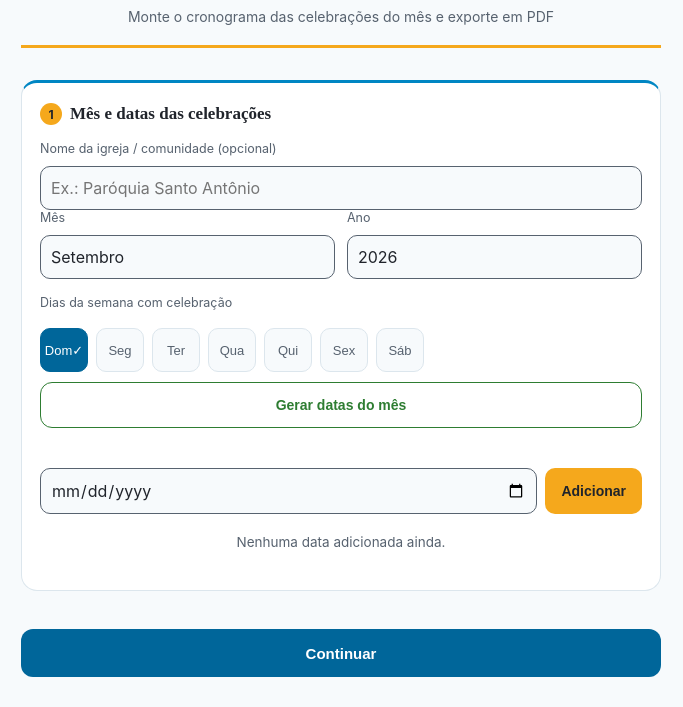
Test: App — step-by-step wizard › advances one step per Continuar click, hiding the previous step
(page scrolled)
Click the button "Continuar": [341, 653] box [21,629,661,677]
(page scrolled)
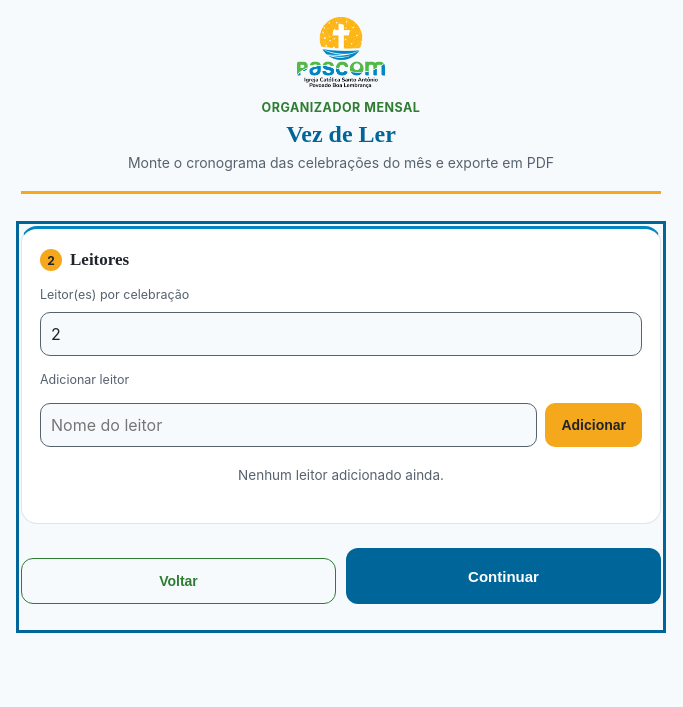
Expected: the label labelled "Nome da igreja" is gone
Expected: the field labelled "Adicionar leitor" is shown
In the field labelled "Adicionar leitor": [289, 425] box [40,403,537,447], type "Ana"
Then press Enter
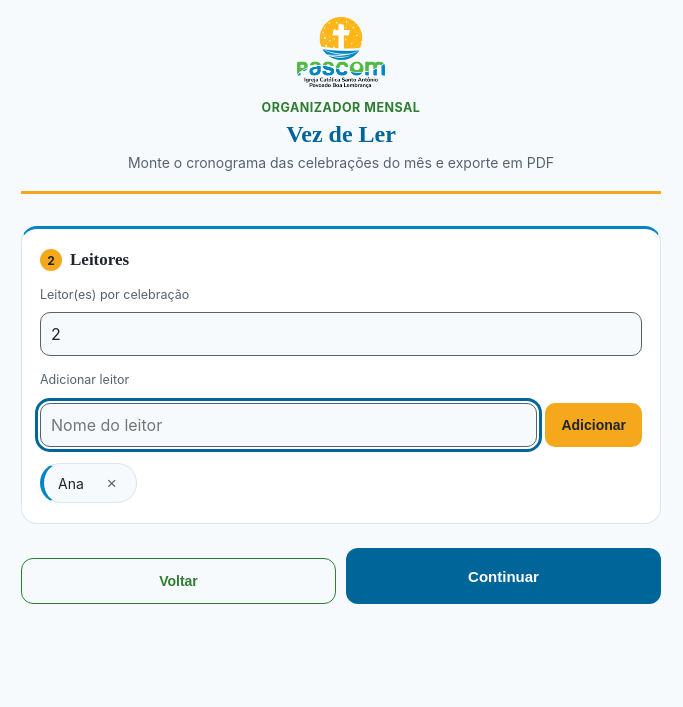
Click the button "Continuar": [504, 576] box [346,548,661,604]
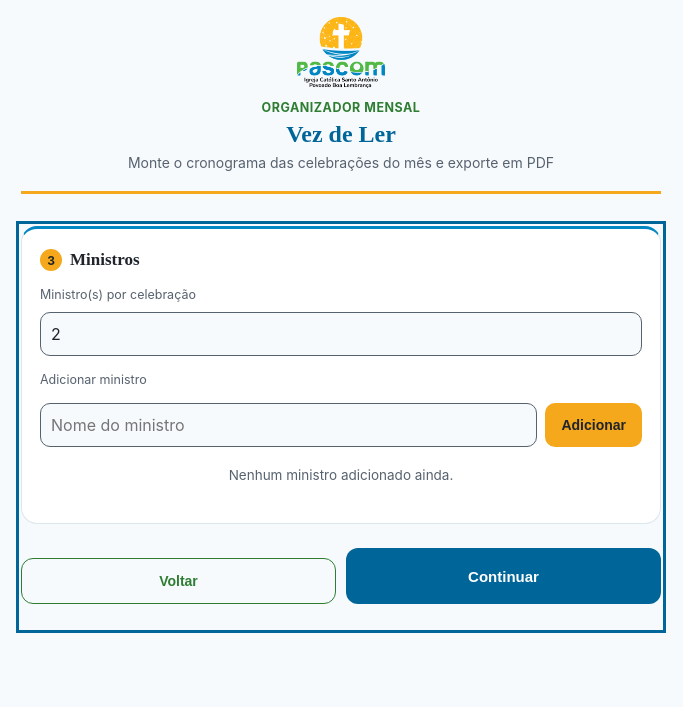
Expected: the label labelled "Adicionar leitor" is gone
Expected: the field labelled "Adicionar ministro" is shown
In the field labelled "Adicionar ministro": [289, 425] box [40,403,537,447], type "Duda"
Then press Enter
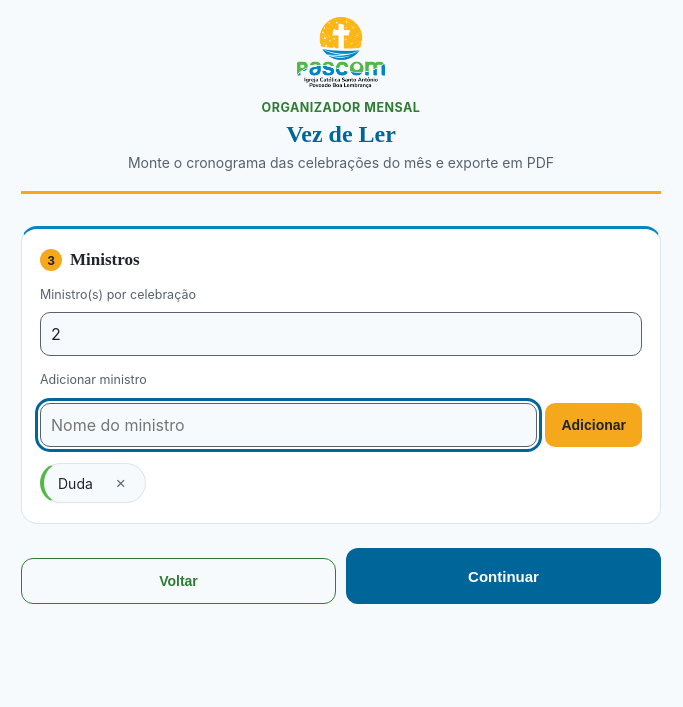
Click the button "Continuar": [504, 576] box [346,548,661,604]
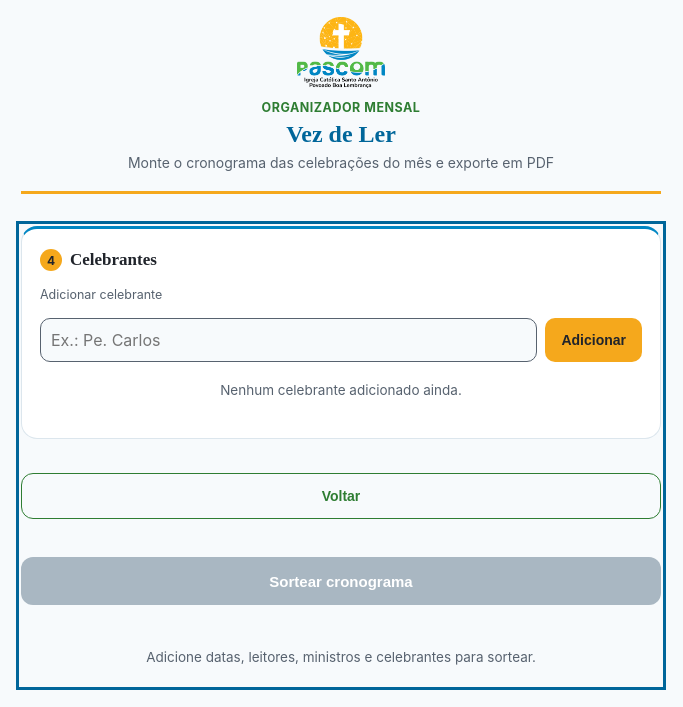
Expected: the label labelled "Adicionar ministro" is gone
Expected: the field labelled "Adicionar celebrante" is shown, [40,318,537,362]
